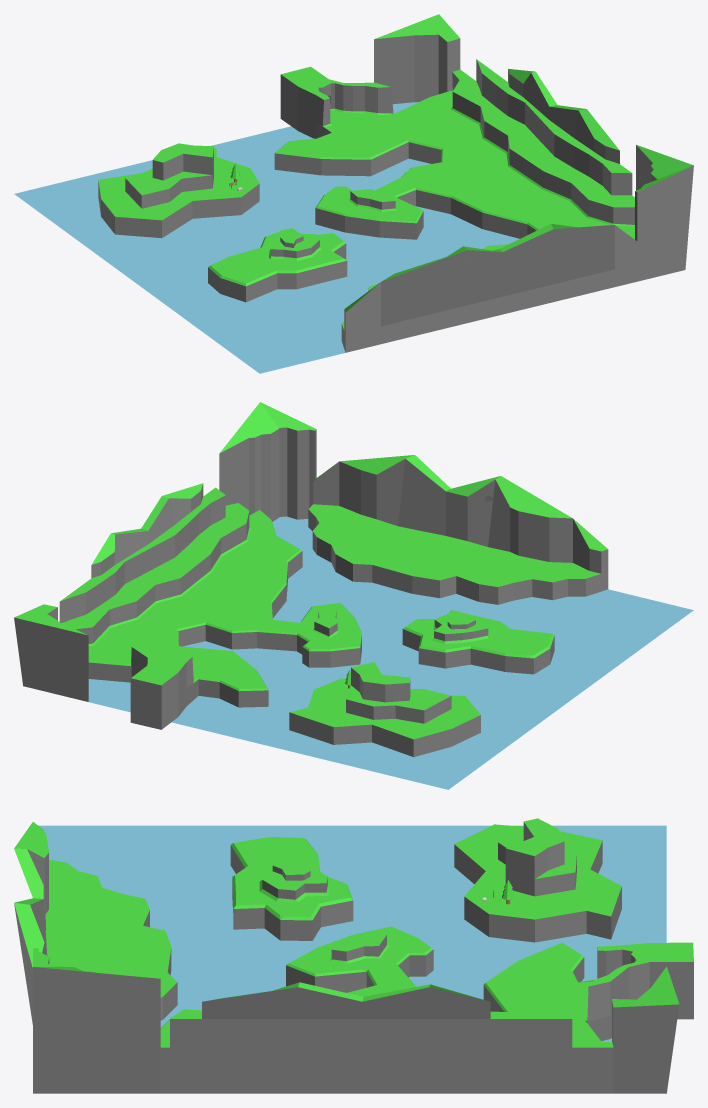
The model's file is ModeleNiveau1.fbx.
3 renders of one model, top to bottom at view 1: azimuth 30°, elevation 25°; view 2: azimuth 150°, elevation 25°; view 3: azimuth 270°, elevation 25°, orthographic. The views are drawn at different scales.
Visible parts, largest first — view 1: Niveau; view 2: Niveau; view 3: Niveau.
Boxes of the visible parts, x1,y1,x2,y2 form: Niveau: (14, 14, 693, 373); Niveau: (14, 402, 693, 789); Niveau: (14, 818, 693, 1093).
Bounding box in the file's own units: 10200 × 2300 × 10729.
